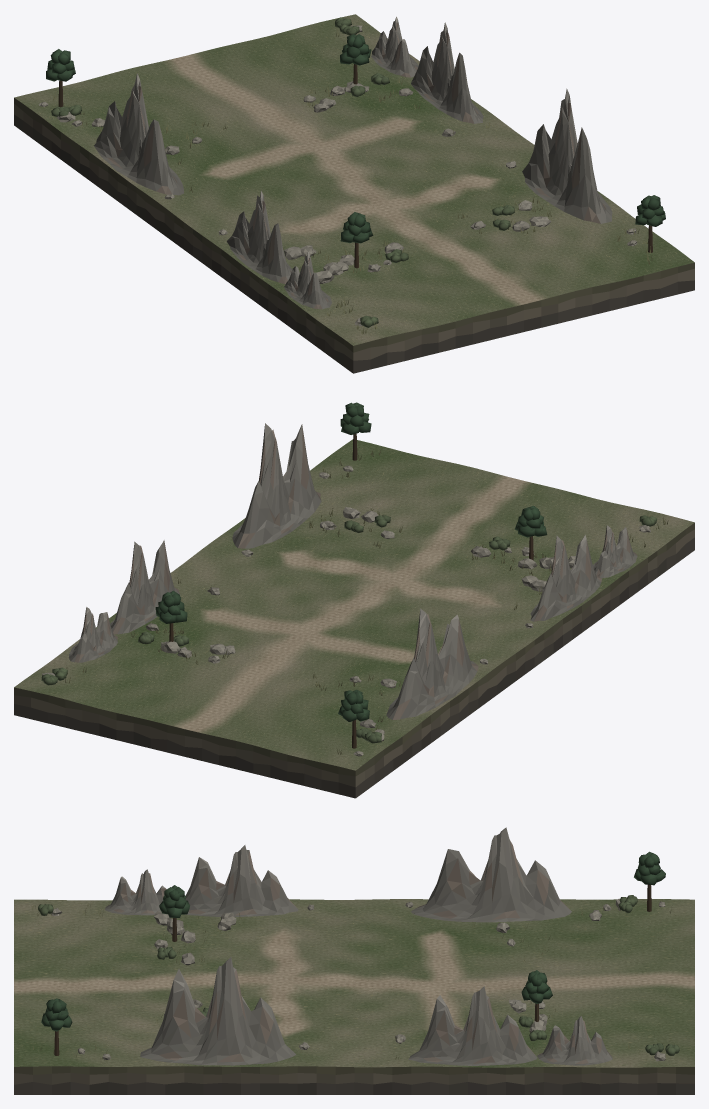
The model's file is montagne.glb.
The picture shows the model from 3 angles, top to bottom: view 1: azimuth 30°, elevation 25°; view 2: azimuth 150°, elevation 25°; view 3: azimuth 270°, elevation 25°; orthographic projection.
Parts seen in each view (by area): view 1: Sol_Montagne, Coupe_Terre, Crete_Granite_01, Crete_Granite_00, Crete_Granite_03, Crete_Granite_02, Crete_Granite_05, Crete_Granite_04, Pin_Couronne_00, Pin_Couronne_03, Pin_Couronne_01, Pin_Couronne_02; view 2: Sol_Montagne, Coupe_Terre, Crete_Granite_01, Crete_Granite_00, Crete_Granite_02, Crete_Granite_03, Crete_Granite_05, Crete_Granite_04, Pin_Couronne_02, Pin_Couronne_00, Pin_Couronne_01, Pin_Couronne_03; view 3: Sol_Montagne, Coupe_Terre, Crete_Granite_01, Crete_Granite_00, Crete_Granite_03, Crete_Granite_02, Crete_Granite_05, Crete_Granite_04, Pin_Couronne_00, Pin_Couronne_03, Pin_Couronne_01, Pin_Couronne_02.
Part boxes in pixels (x1,y1,x2,y2): Sol_Montagne: (14, 14, 694, 345); Coupe_Terre: (14, 98, 694, 373); Crete_Granite_01: (522, 88, 612, 223); Crete_Granite_00: (94, 73, 183, 195); Crete_Granite_03: (411, 22, 483, 123); Crete_Granite_02: (226, 190, 292, 284); Crete_Granite_05: (371, 16, 418, 77); Crete_Granite_04: (284, 251, 331, 309); Pin_Couronne_00: (46, 49, 75, 81); Pin_Couronne_03: (340, 212, 373, 243); Pin_Couronne_01: (635, 195, 665, 226); Pin_Couronne_02: (340, 34, 371, 65); Sol_Montagne: (14, 439, 694, 770); Coupe_Terre: (14, 522, 694, 798); Crete_Granite_01: (232, 423, 321, 548); Crete_Granite_00: (386, 608, 478, 719); Crete_Granite_02: (530, 535, 601, 621); Crete_Granite_03: (110, 540, 180, 634); Crete_Granite_05: (69, 607, 117, 662); Crete_Granite_04: (593, 525, 637, 578); Pin_Couronne_02: (155, 590, 187, 623); Pin_Couronne_00: (338, 689, 369, 721); Pin_Couronne_01: (340, 402, 371, 434); Pin_Couronne_03: (514, 505, 547, 537); Sol_Montagne: (14, 899, 694, 1067); Coupe_Terre: (14, 1066, 694, 1094); Crete_Granite_01: (140, 957, 295, 1065); Crete_Granite_00: (411, 827, 571, 922); Crete_Granite_03: (408, 986, 537, 1065); Crete_Granite_02: (185, 845, 298, 916); Crete_Granite_05: (537, 1016, 612, 1065); Crete_Granite_04: (105, 869, 166, 915); Pin_Couronne_00: (634, 851, 665, 885); Pin_Couronne_03: (159, 885, 189, 917); Pin_Couronne_01: (41, 998, 72, 1031); Pin_Couronne_02: (521, 970, 552, 1003).
Bounding box in the file's own units: 2.82 × 1.01 × 4.85.
Materials: 2 (1 with a texture image).
